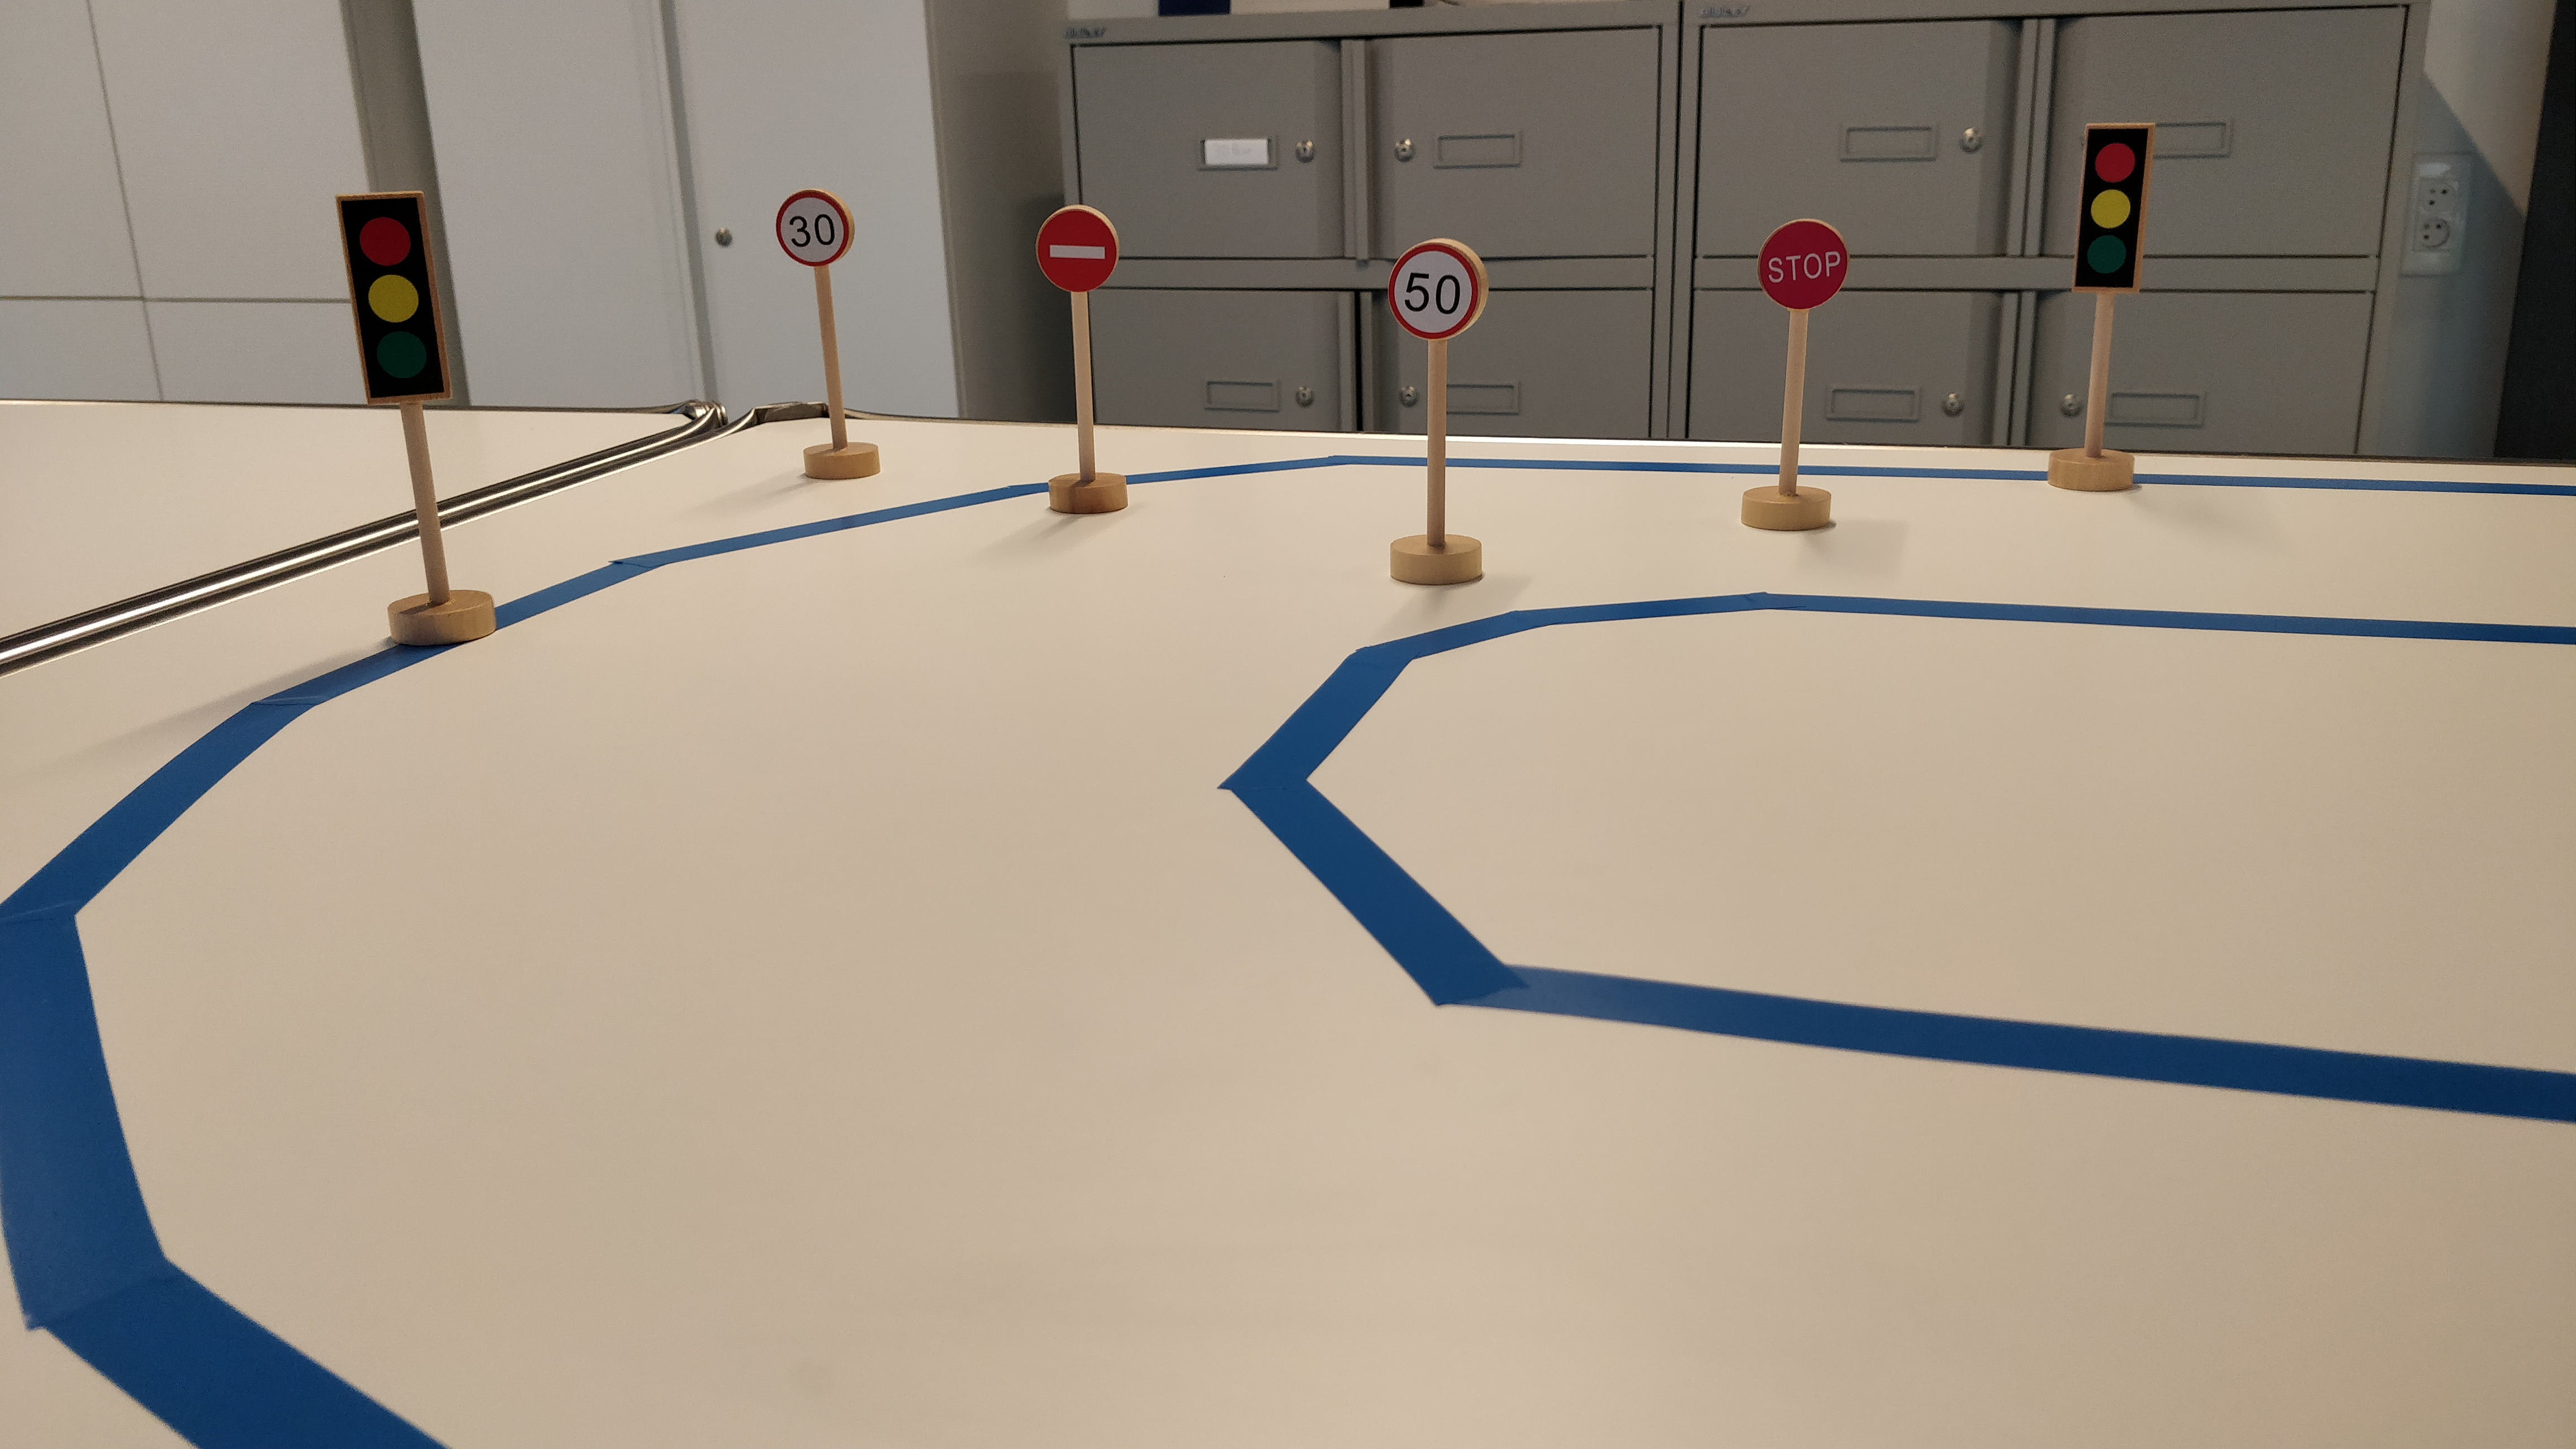Prohibition Sign: (1035, 202, 1120, 296)
Speed Limit 30: (772, 184, 860, 270)
Speed Limit 50: (1385, 235, 1491, 343)
Stop Sign: (1753, 213, 1854, 314)
Traffic Light: (330, 187, 460, 406), (2067, 121, 2157, 296)
